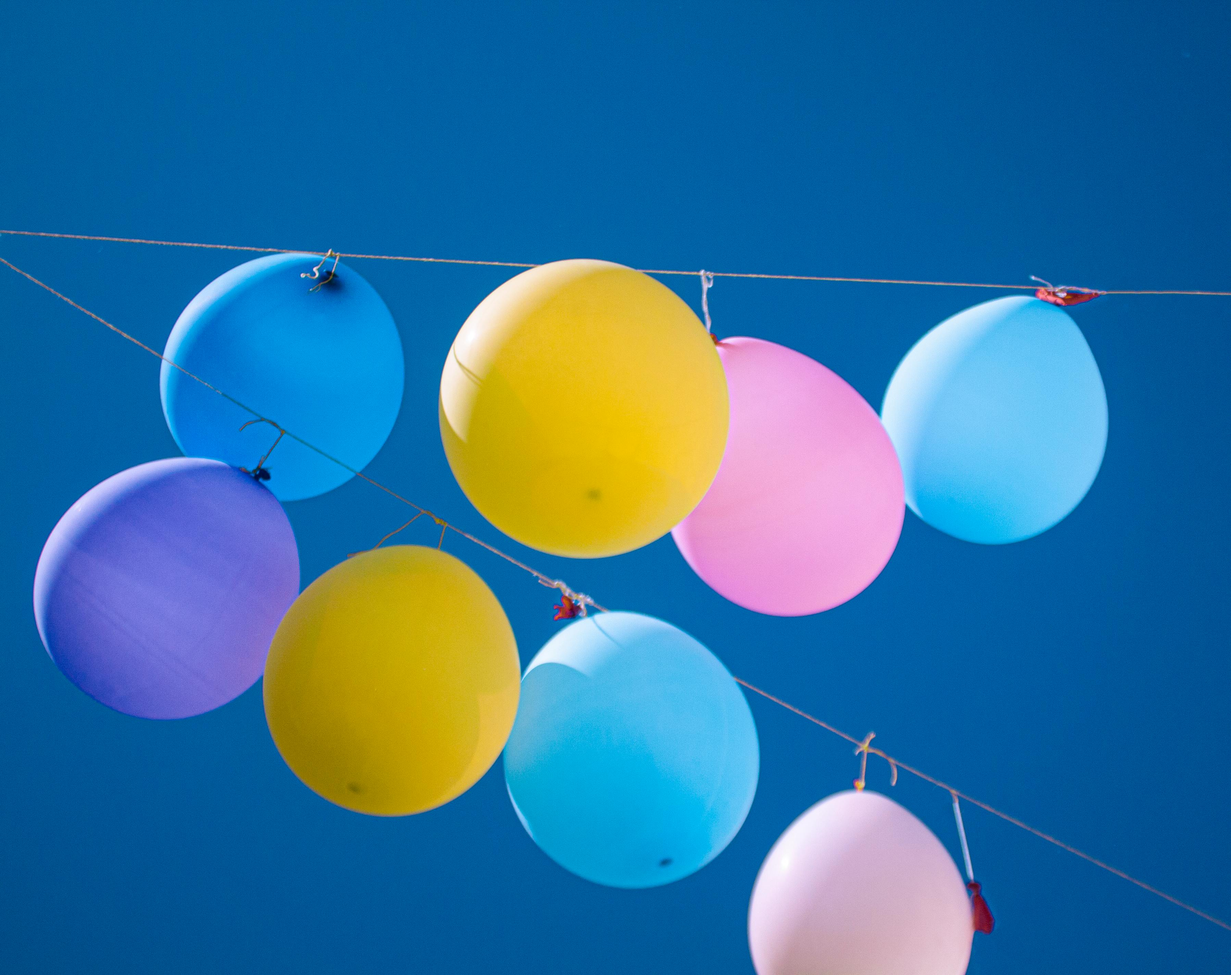balloon: (439, 259, 728, 557), (504, 612, 759, 887), (263, 545, 520, 815), (34, 457, 299, 718), (672, 337, 905, 616), (161, 253, 404, 500), (881, 296, 1107, 544), (749, 791, 973, 975)
